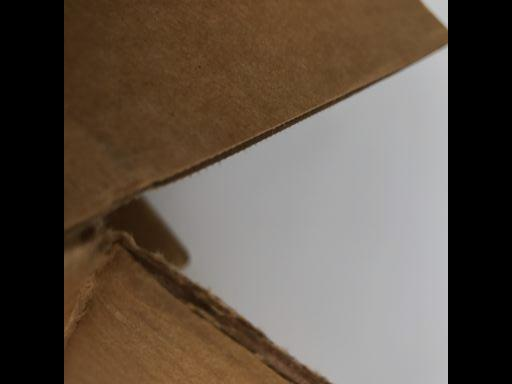cardboard: (68, 4, 448, 383)
